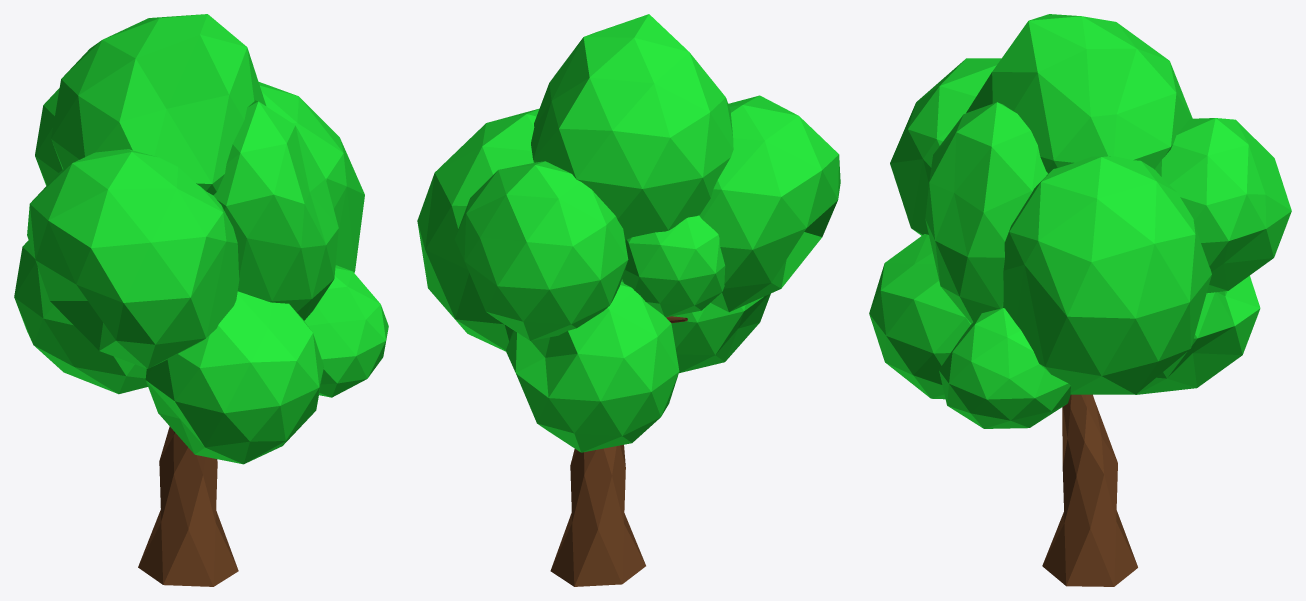
The model's file is MP_Tree.fbx.
The picture shows the model from 3 angles, left to right: view 1: azimuth 30°, elevation 25°; view 2: azimuth 150°, elevation 25°; view 3: azimuth 270°, elevation 25°; orthographic projection. The views are drawn at different scales.
Parts seen in each view (by area): view 1: Icosphere.010, Tree Low Poly; view 2: Icosphere.010, Tree Low Poly; view 3: Icosphere.010, Tree Low Poly.
Boxes of the visible parts, left/top/right/bottom form: Icosphere.010: left=14, top=14, right=388, bottom=464; Tree Low Poly: left=138, top=426, right=238, bottom=586; Icosphere.010: left=417, top=14, right=840, bottom=452; Tree Low Poly: left=550, top=316, right=687, bottom=586; Icosphere.010: left=869, top=14, right=1291, bottom=428; Tree Low Poly: left=1042, top=394, right=1137, bottom=586.
Size of the model in its own units: 632 by 967 by 687.
